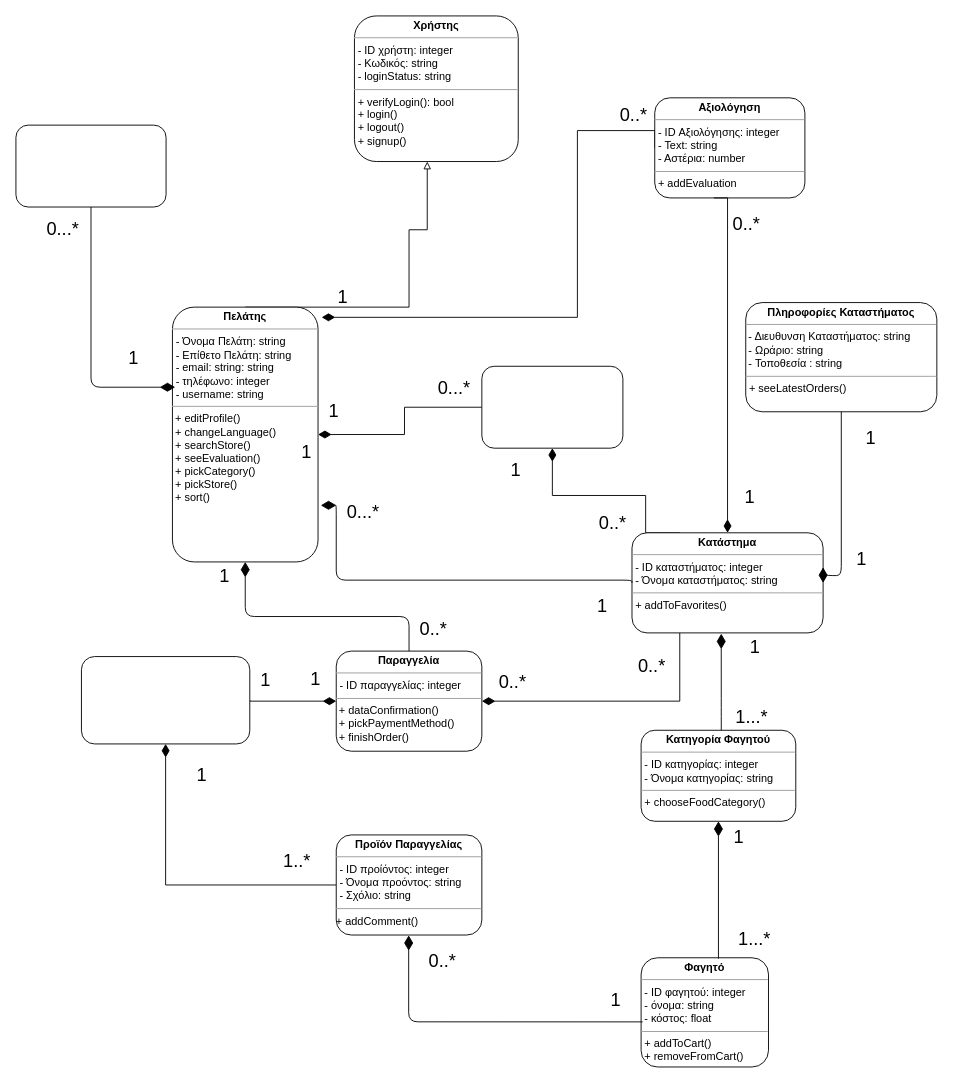
This 953x1083 diagram has some shape labels left out. Here are the shapes that lost their labels. From the top down, the centre of each, then its label:
the point at 90,165: Διεύθυνση - ID Διεύθυνσης: integer - Πεδίο Διεύθυνσης: sting + addAddress()
the point at 552,406: Αγαπημένα - ID Αγαπημένου: integer + seeFavorites()
the point at 165,700: Καλάθι - ID καλαθιού: integer - Συνολικό Κόστος: number + addToCart()
